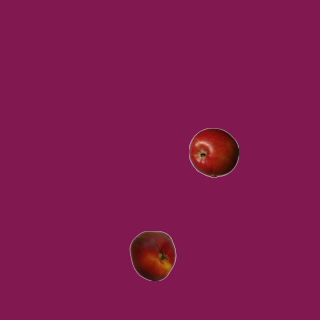Apple Braeburn: (188, 127, 238, 177)
Nectarine Flat: (127, 230, 177, 280)
